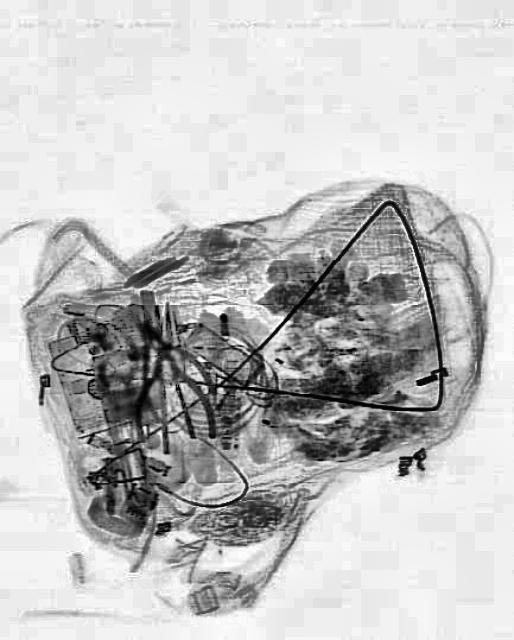Pliers: (106, 288, 216, 428), (122, 297, 214, 447)
